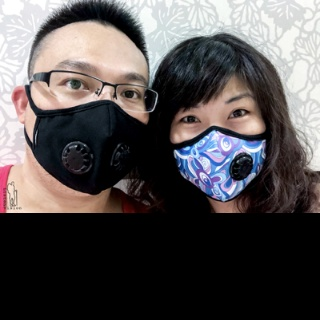with_mask: (29, 59, 150, 197), (168, 91, 268, 204)
